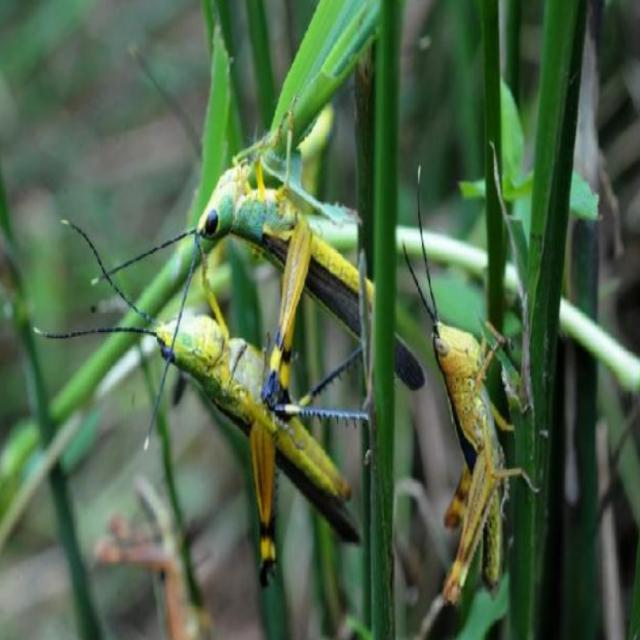ZhaMeng: (96, 258, 366, 554), (176, 117, 434, 401), (403, 188, 537, 597)
